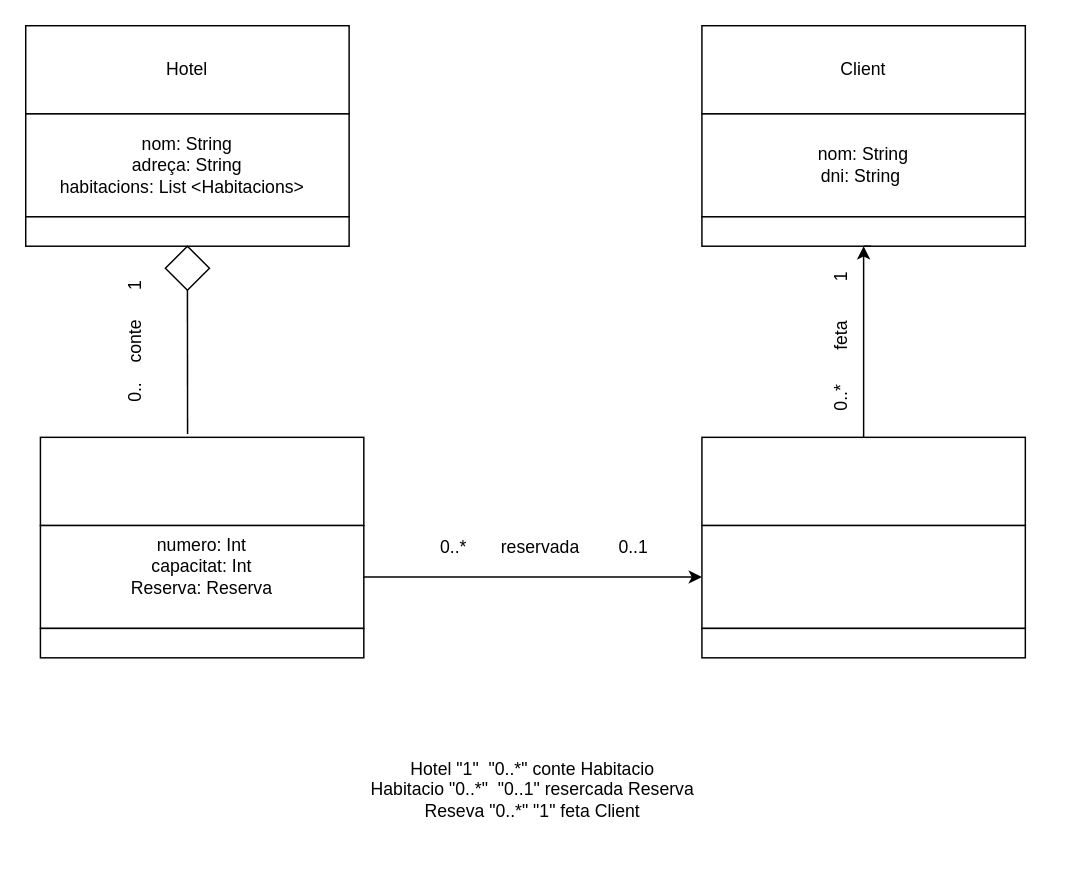
Some shapes in this 1066 by 875 pixel diagram are drawn without their labels. The centre of each missing label's shape, as x and y in pixels:
"datainici: Date datafi: Date client: Client" belongs at (862,576).
"Habitacio" belongs at (201,481).
"Reserva" belongs at (862,481).
